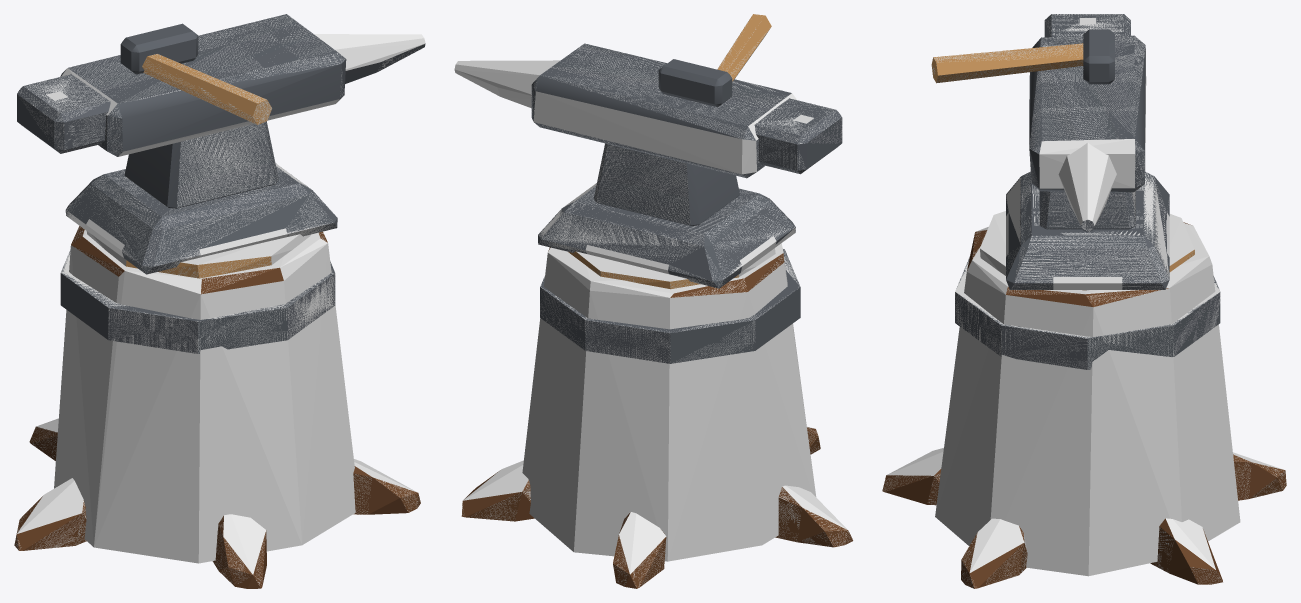
File: anvil_stump.glb
The picture shows the model from 3 angles, left to right: view 1: azimuth 30°, elevation 25°; view 2: azimuth 150°, elevation 25°; view 3: azimuth 270°, elevation 25°; orthographic projection. The views are drawn at different scales.
Visible parts, largest first — view 1: COL_anvil_stump_00, anvil_face, anvil_base, stump_band, anvil_waist, COL_anvil_stump_08, heel, COL_anvil_stump_06, COL_anvil_stump_09, COL_anvil_stump_10, hammer_handle, hammer_head (+14 smaller); view 2: COL_anvil_stump_00, anvil_base, anvil_face, COL_anvil_stump_10, stump_band, anvil_waist, COL_anvil_stump_08, heel, COL_anvil_stump_09, COL_anvil_stump_11, hammer_head, COL_anvil_stump_06 (+11 smaller); view 3: COL_anvil_stump_00, anvil_base, anvil_face, stump_band, COL_anvil_stump_08, COL_anvil_stump_10, hammer_handle, COL_anvil_stump_06, COL_anvil_stump_11, anvil_waist, root_0, COL_anvil_stump_05 (+12 smaller).
Part boxes in pixels (x1,y1,x2,y2): COL_anvil_stump_00: (54, 226, 355, 563); anvil_face: (60, 14, 346, 156); anvil_base: (65, 163, 337, 274); stump_band: (60, 249, 335, 353); anvil_waist: (124, 121, 278, 208); COL_anvil_stump_08: (66, 163, 336, 273); heel: (17, 74, 110, 153); COL_anvil_stump_06: (61, 250, 335, 353); COL_anvil_stump_09: (177, 122, 277, 207); COL_anvil_stump_10: (61, 16, 344, 156); hammer_handle: (142, 54, 271, 124); hammer_head: (120, 23, 198, 74); COL_anvil_stump_00: (522, 243, 816, 561); anvil_base: (538, 186, 795, 288); anvil_face: (531, 43, 791, 178); COL_anvil_stump_10: (531, 44, 796, 177); stump_band: (540, 249, 800, 363); anvil_waist: (593, 143, 739, 225); COL_anvil_stump_08: (538, 183, 795, 287); heel: (754, 98, 842, 174); COL_anvil_stump_09: (594, 144, 690, 224); COL_anvil_stump_11: (454, 60, 560, 108); hammer_head: (658, 59, 732, 106); COL_anvil_stump_06: (540, 249, 800, 363); COL_anvil_stump_00: (935, 223, 1240, 576); anvil_base: (1006, 171, 1169, 289); anvil_face: (1029, 35, 1145, 192); stump_band: (955, 256, 1220, 369); COL_anvil_stump_08: (1006, 172, 1169, 289); COL_anvil_stump_10: (1030, 36, 1146, 191); hammer_handle: (931, 43, 1083, 83); COL_anvil_stump_06: (955, 258, 1220, 369); COL_anvil_stump_11: (1058, 142, 1116, 231); anvil_waist: (1039, 191, 1135, 229); root_0: (1150, 518, 1222, 584); COL_anvil_stump_05: (961, 518, 1027, 588).
Size of the model in its own units: 0.7949 by 0.8692 by 0.7021.
